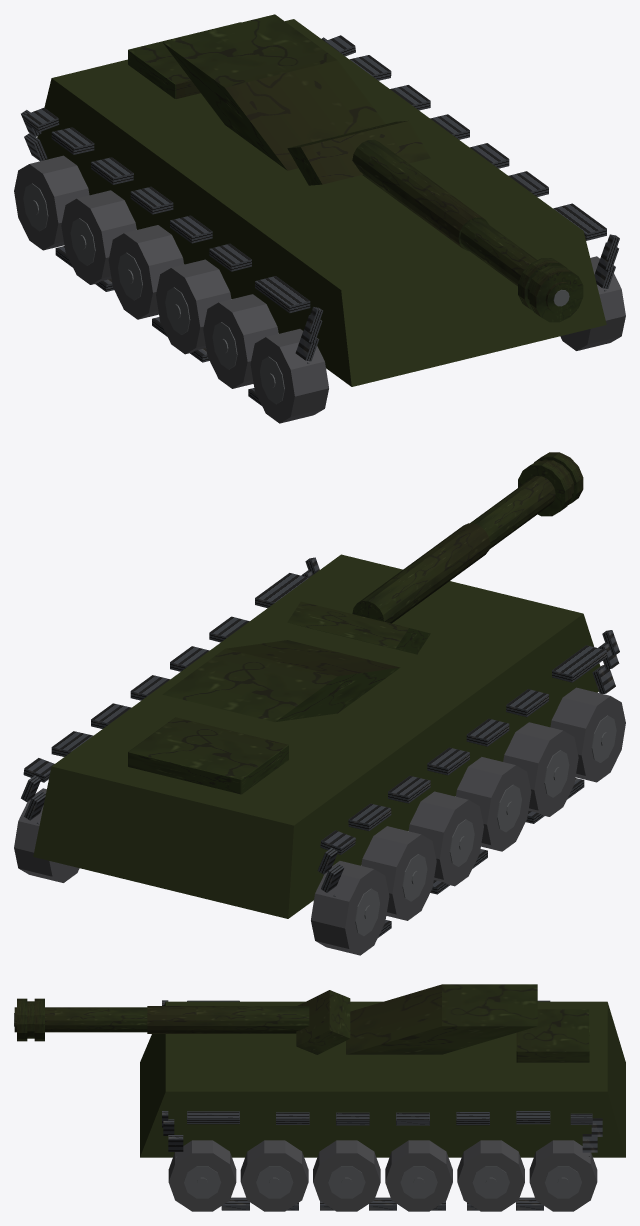
The model's file is maul_LOD2.glb.
3 views of the same model, one above another, from view 1: azimuth 30°, elevation 25°; view 2: azimuth 150°, elevation 25°; view 3: azimuth 270°, elevation 25° (orthographic). The views are drawn at different scales.
Visible parts, largest first — view 1: HullMesh, Wheels_L, CasemateMesh, TrackL, Gun_tube1, TrackR, Gun_tube2, Wheels_R, Gun_brk1, Gun_brk2; view 2: HullMesh, Wheels_L, CasemateMesh, TrackL, Gun_tube1, TrackR, Gun_tube2, Wheels_R, Gun_brk2, Gun_brk1; view 3: HullMesh, Wheels_R, CasemateMesh, TrackR, Gun_tube1, Gun_tube2, Gun_brk1, Gun_brk2.
Boxes of the visible parts, bbox=[...] form: HullMesh: bbox=[37, 19, 606, 386]; Wheels_L: bbox=[14, 155, 328, 423]; CasemateMesh: bbox=[162, 14, 430, 185]; TrackL: bbox=[21, 108, 322, 405]; Gun_tube1: bbox=[352, 139, 488, 251]; TrackR: bbox=[321, 35, 619, 291]; Gun_tube2: bbox=[460, 219, 575, 312]; Wheels_R: bbox=[560, 256, 625, 350]; Gun_brk1: bbox=[529, 266, 583, 322]; Gun_brk2: bbox=[518, 258, 567, 310]; HullMesh: bbox=[33, 554, 600, 918]; Wheels_L: bbox=[311, 687, 625, 955]; CasemateMesh: bbox=[162, 601, 430, 721]; TrackL: bbox=[317, 630, 619, 937]; Gun_tube1: bbox=[352, 523, 490, 623]; TrackR: bbox=[21, 557, 319, 824]; Gun_tube2: bbox=[470, 476, 555, 549]; Wheels_R: bbox=[14, 788, 79, 882]; Gun_brk2: bbox=[518, 460, 571, 516]; Gun_brk1: bbox=[534, 452, 583, 504]; HullMesh: bbox=[140, 1001, 625, 1157]; Wheels_R: bbox=[168, 1140, 597, 1211]; CasemateMesh: bbox=[296, 984, 537, 1054]; TrackR: bbox=[162, 1111, 602, 1210]; Gun_tube1: bbox=[147, 1006, 309, 1033]; Gun_tube2: bbox=[14, 1007, 147, 1032]; Gun_brk1: bbox=[17, 998, 27, 1041]; Gun_brk2: bbox=[34, 998, 44, 1041].
Size of the model in its own units: 4 by 2.26 by 8.31.
5 materials, 3 textured.
